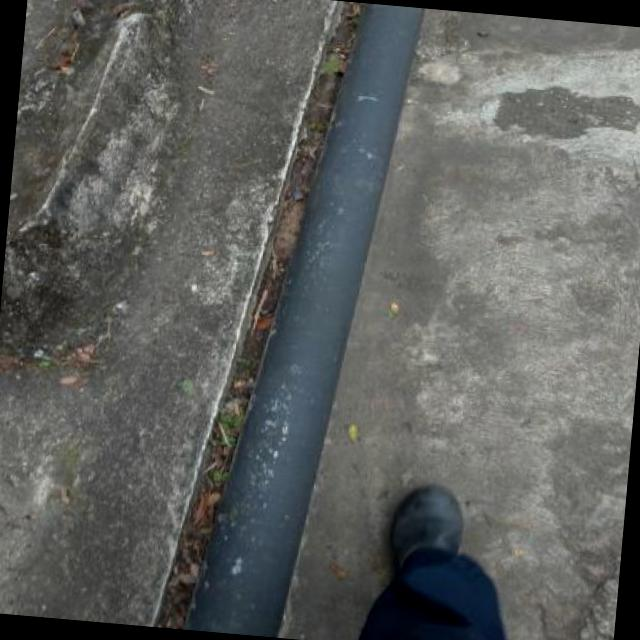gas: (184, 3, 426, 637)
